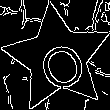O_NW: (27, 26, 88, 91)
